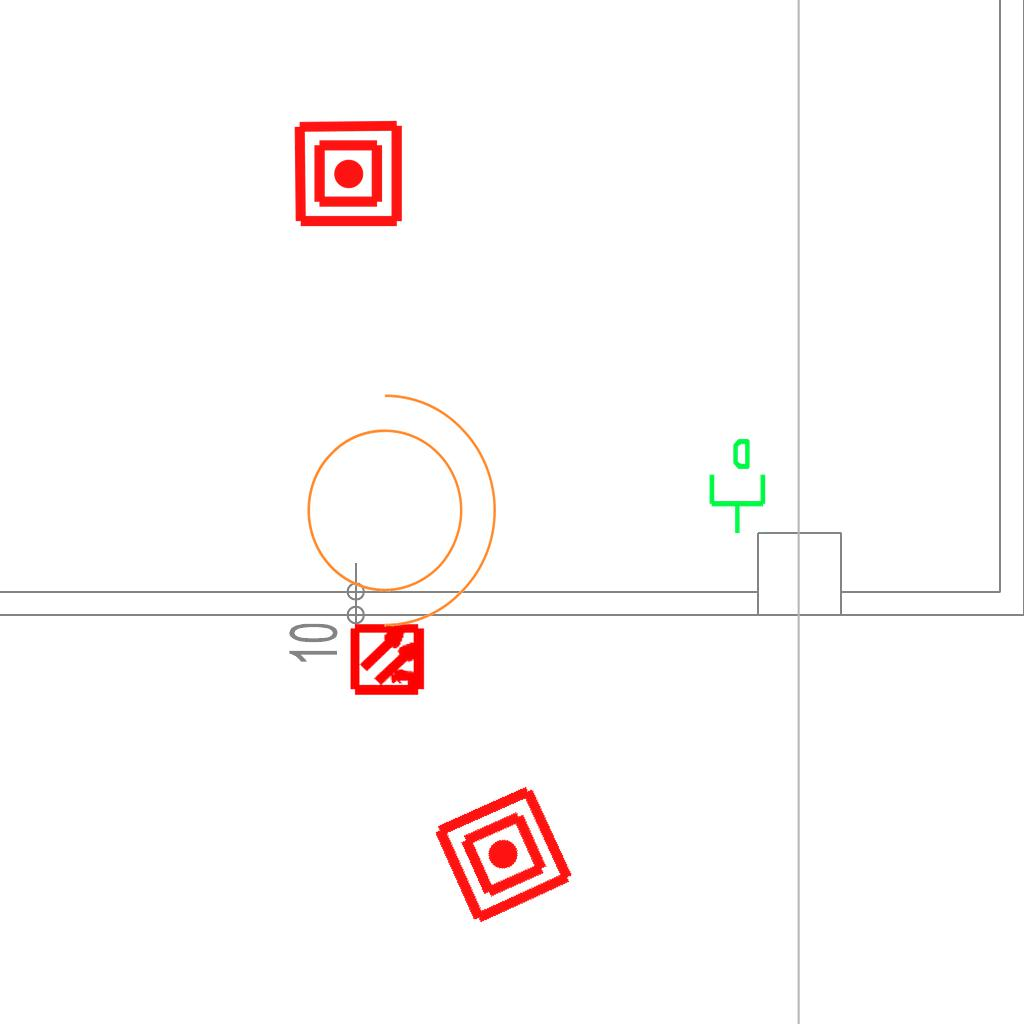Datenanschluss_einfach: (701, 436, 770, 536)
NAM-Nichtautomatischer_Melder: (428, 779, 579, 930), (292, 117, 405, 230)
OT_Multisensormelder_(Kombination_RMO_WMD): (333, 603, 446, 716)
Scheinwerfer_fuer_Alarmbeleuchtung: (282, 372, 507, 636)
